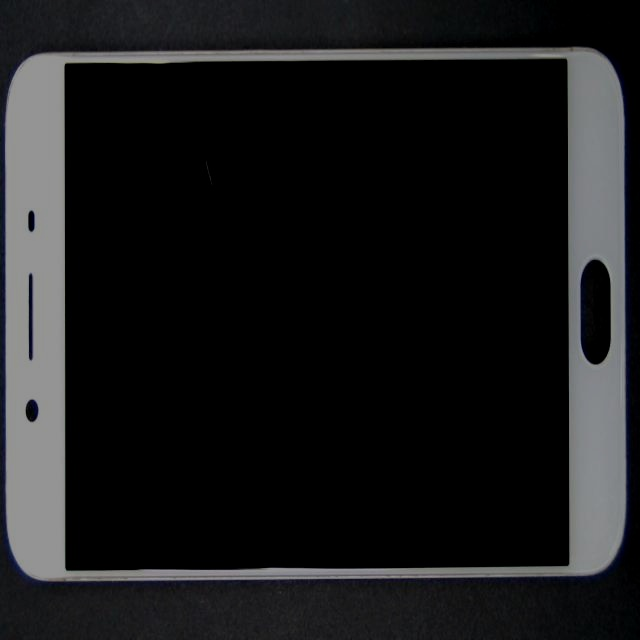scratch: (128, 115, 327, 249)
